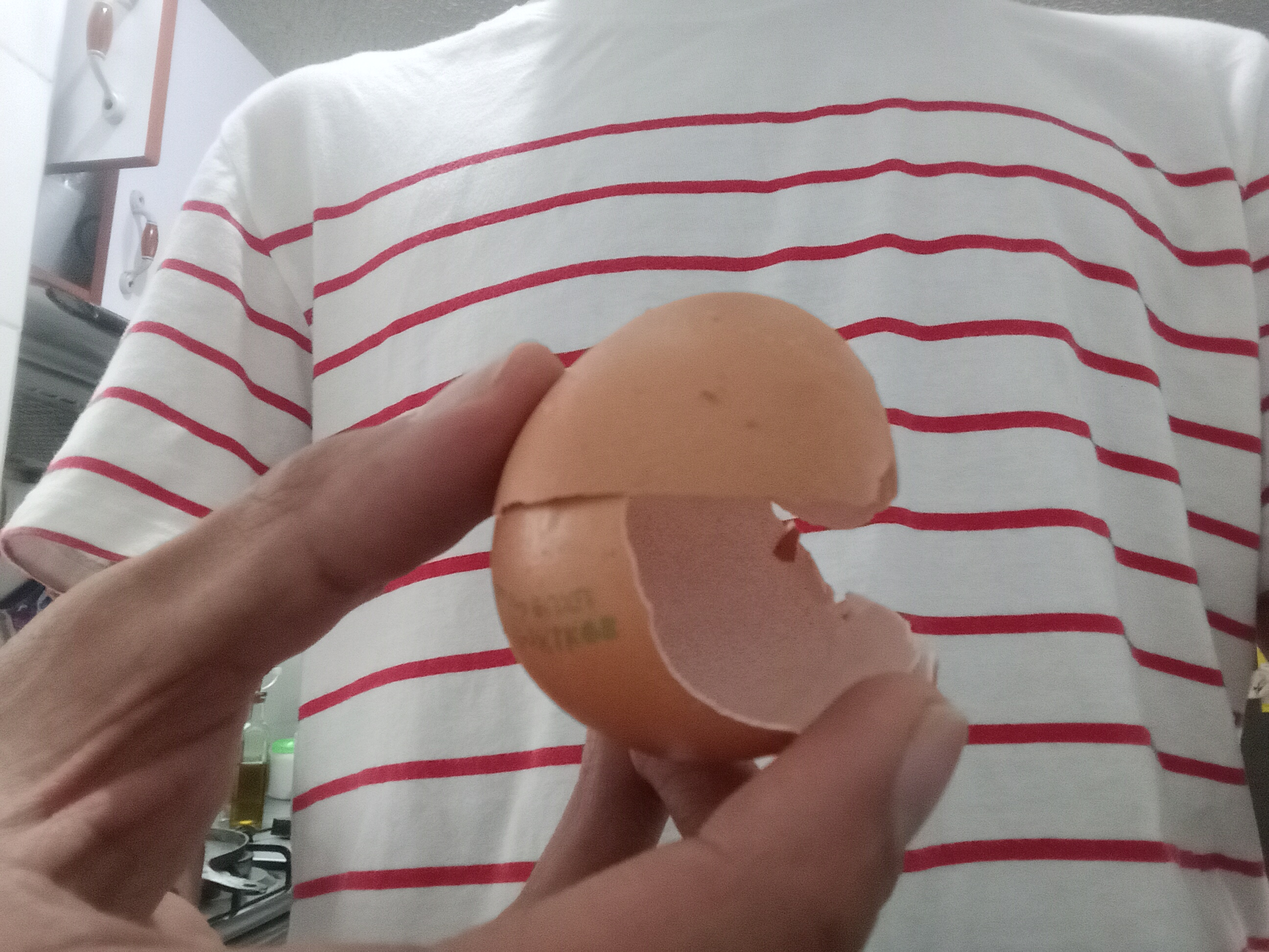Organico: (491, 293, 931, 766)
